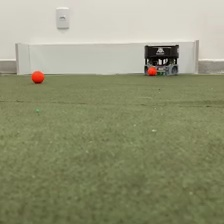ball: (30, 69, 45, 83), (147, 65, 158, 77)
goal: (14, 36, 202, 77)
robot: (142, 43, 180, 78)
